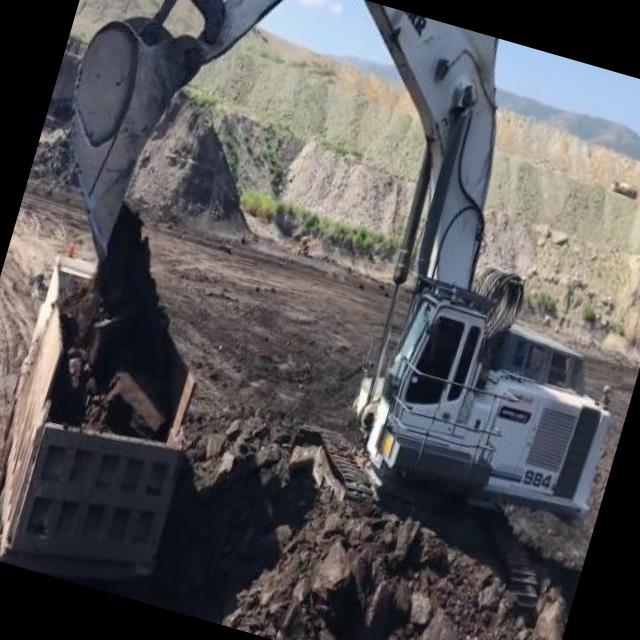Dump Truck: (0, 234, 236, 603)
Excavator: (0, 0, 640, 633)
